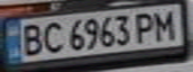3: (112, 12, 136, 46)
6: (63, 16, 87, 52), (97, 14, 118, 48)
9: (81, 16, 103, 51)
B: (15, 21, 48, 57)
C: (36, 19, 66, 55)
M: (151, 7, 181, 42)
P: (130, 10, 160, 44)
